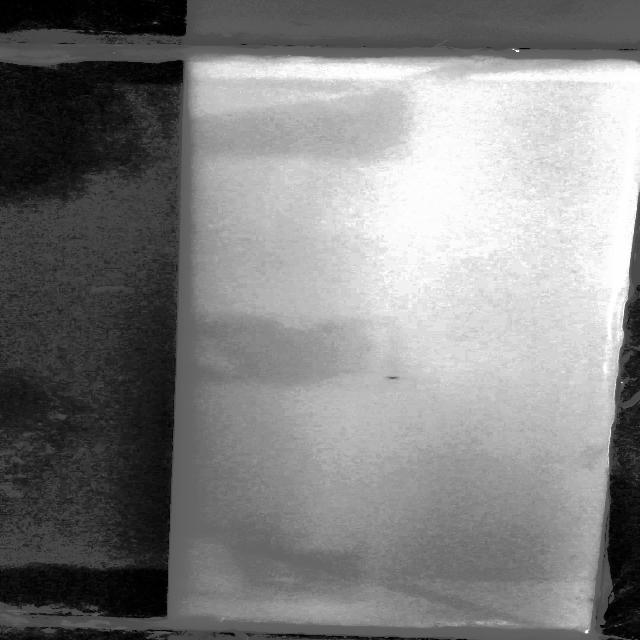shrimp: (379, 373, 415, 386)
